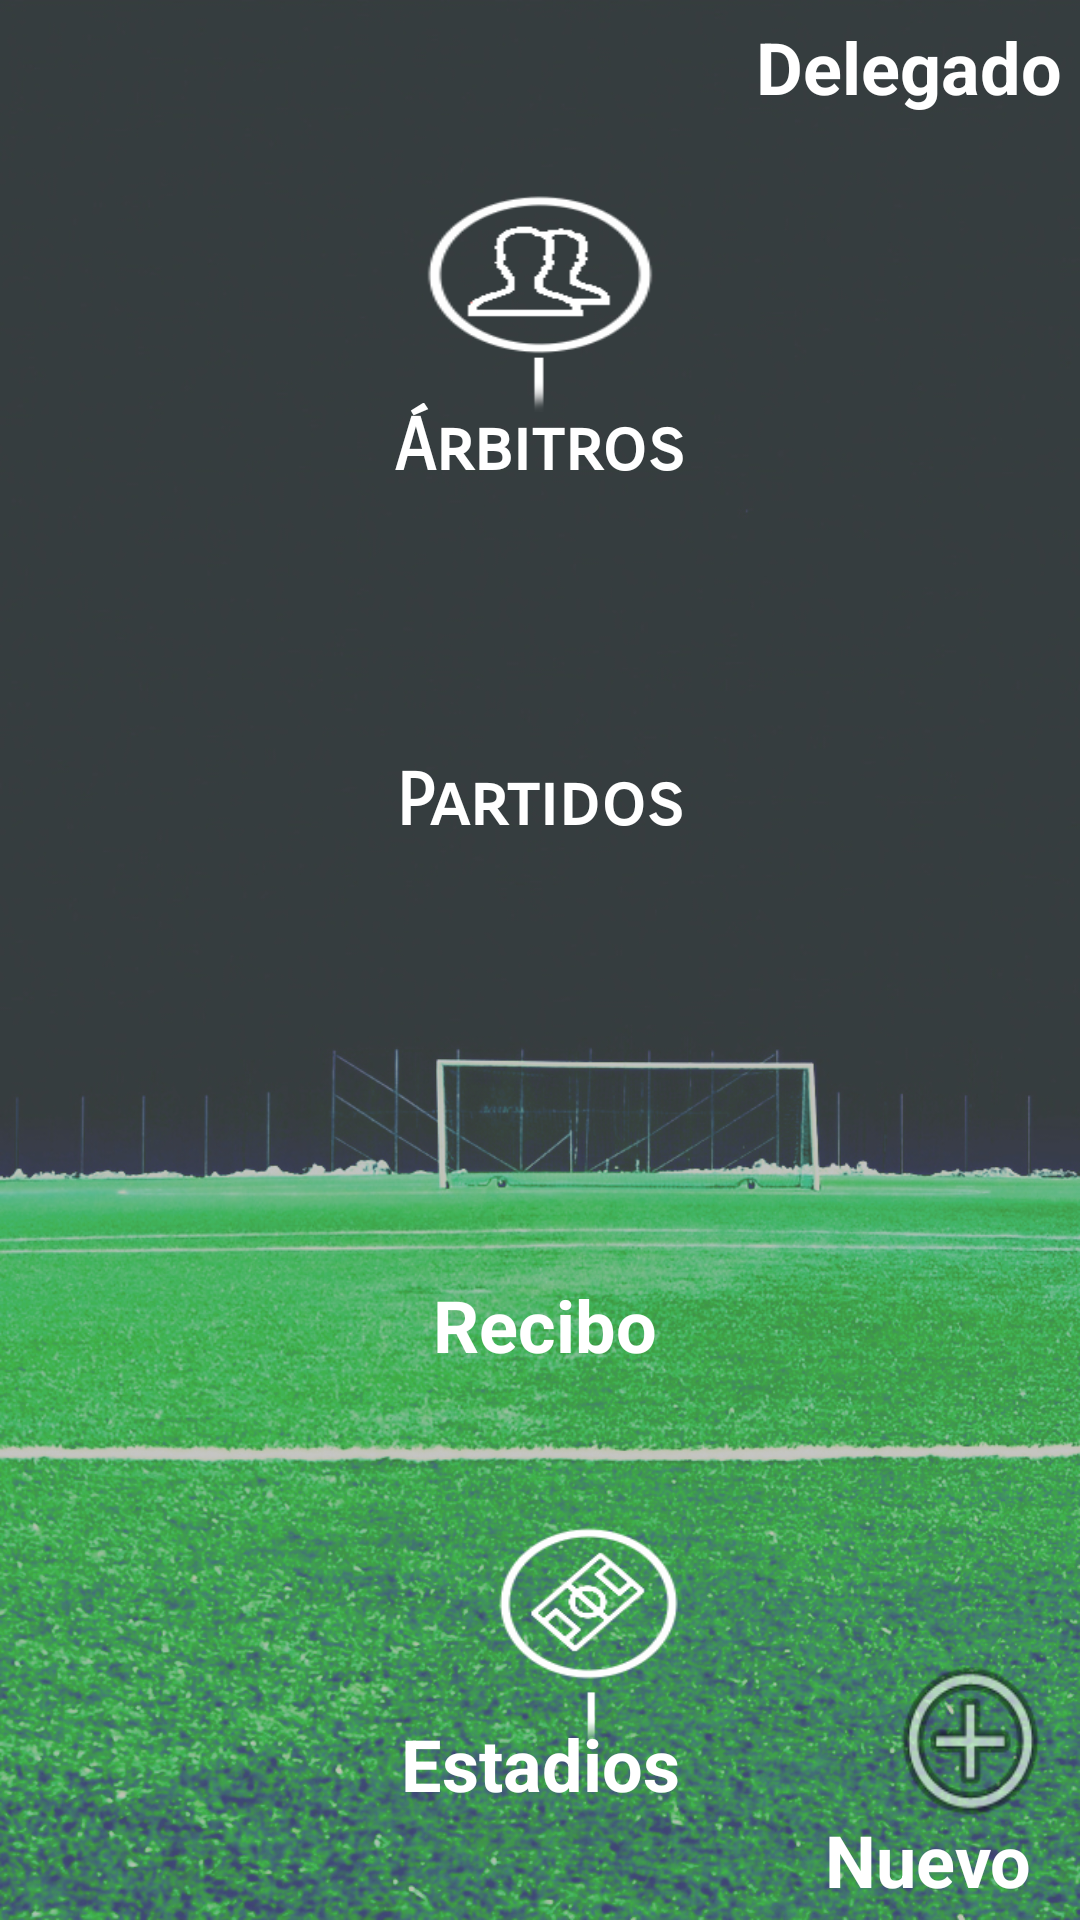

Point at icon controls on the screen. Image size 1080 × 1920, points as [x,y].
iconousers: [540,301]
